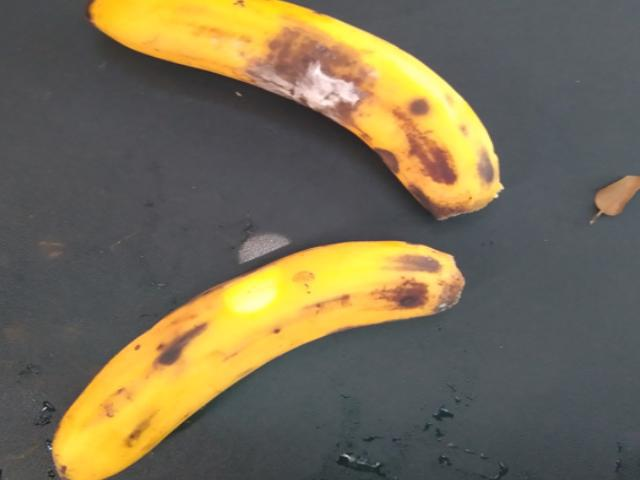overripe: (39, 228, 478, 479), (85, 0, 504, 215)
rotten: (252, 13, 386, 155)
